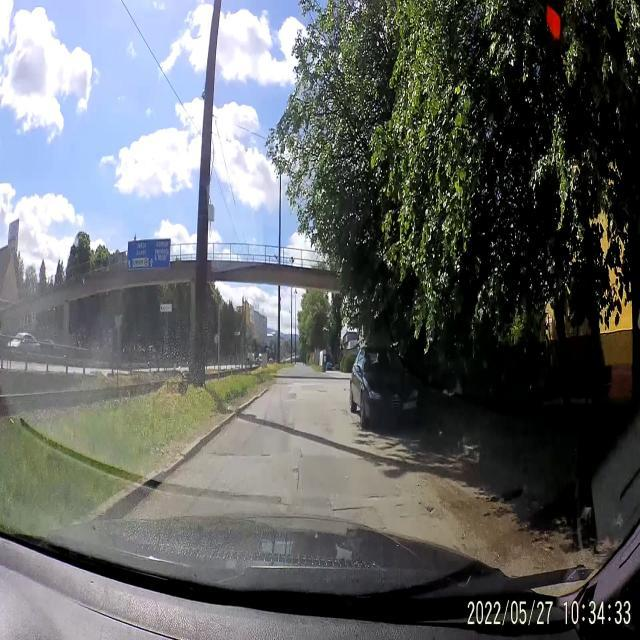Pothole: (326, 498, 374, 516), (206, 448, 246, 460), (418, 498, 436, 516), (292, 463, 302, 493), (258, 447, 274, 459)
